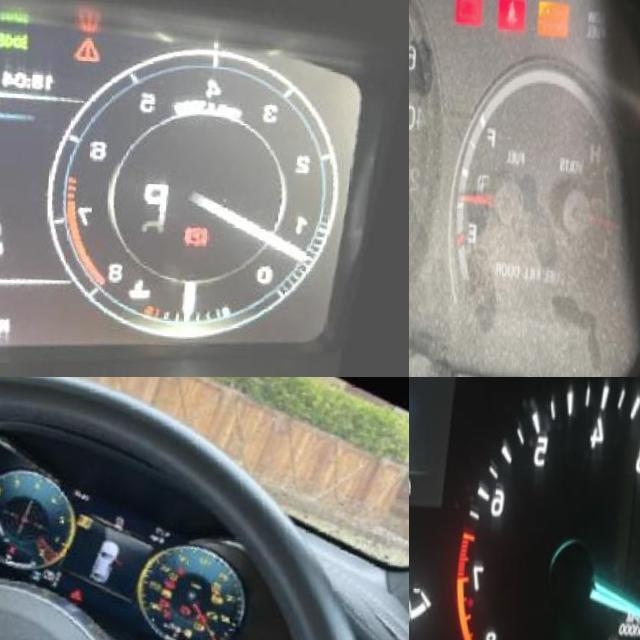Engine cooling system: (133, 276, 159, 305), (8, 545, 22, 559)
Low fuel level: (185, 627, 195, 639)
Seat Belt: (504, 0, 523, 25)
